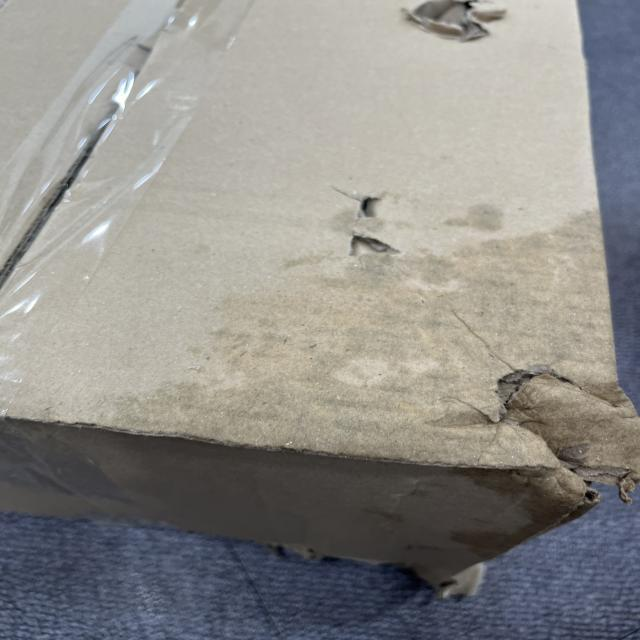hole: (398, 0, 515, 43)
wet: (177, 215, 639, 526)
